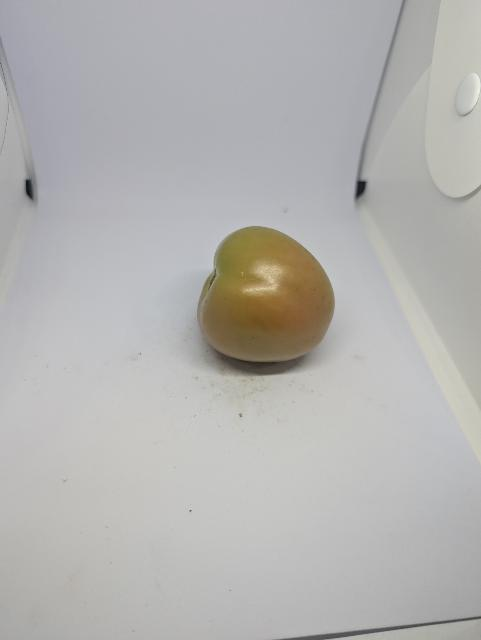breaker: (198, 226, 335, 362)
